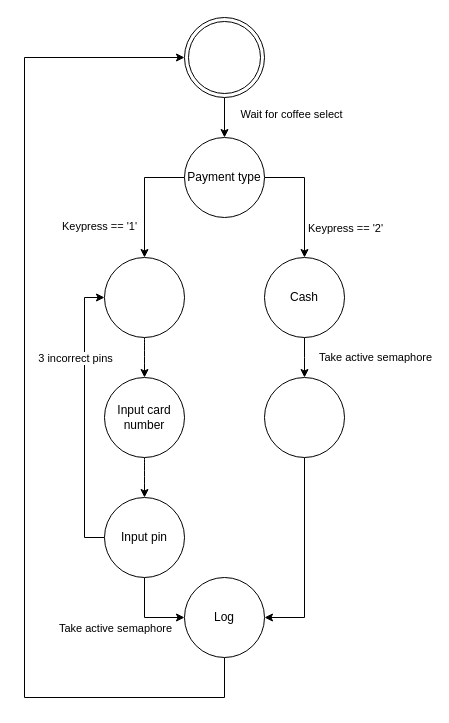
This 449x723 diagram has some shape labels left out. The shapes that lost their labels are listed below. From the top down, each one's box as (x1, y1, x2, y2) in pixels, then its label:
(184, 16, 264, 98): Start
(104, 256, 184, 338): Card
(264, 376, 344, 458): Change
